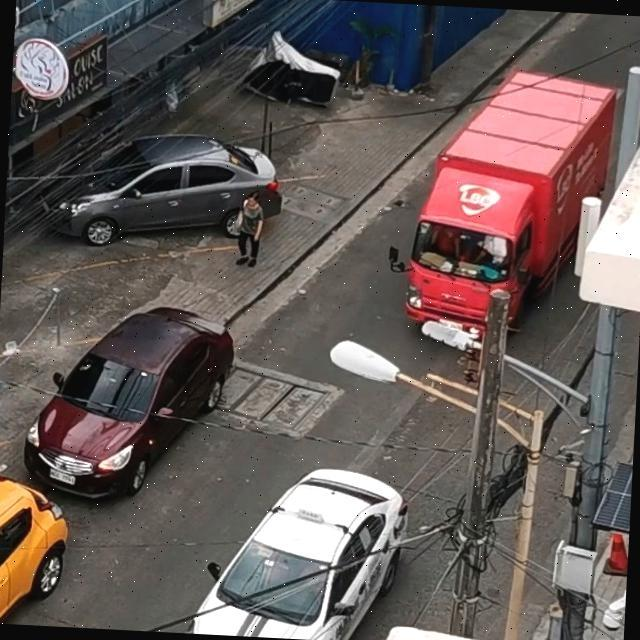Truck: (399, 62, 617, 342)
